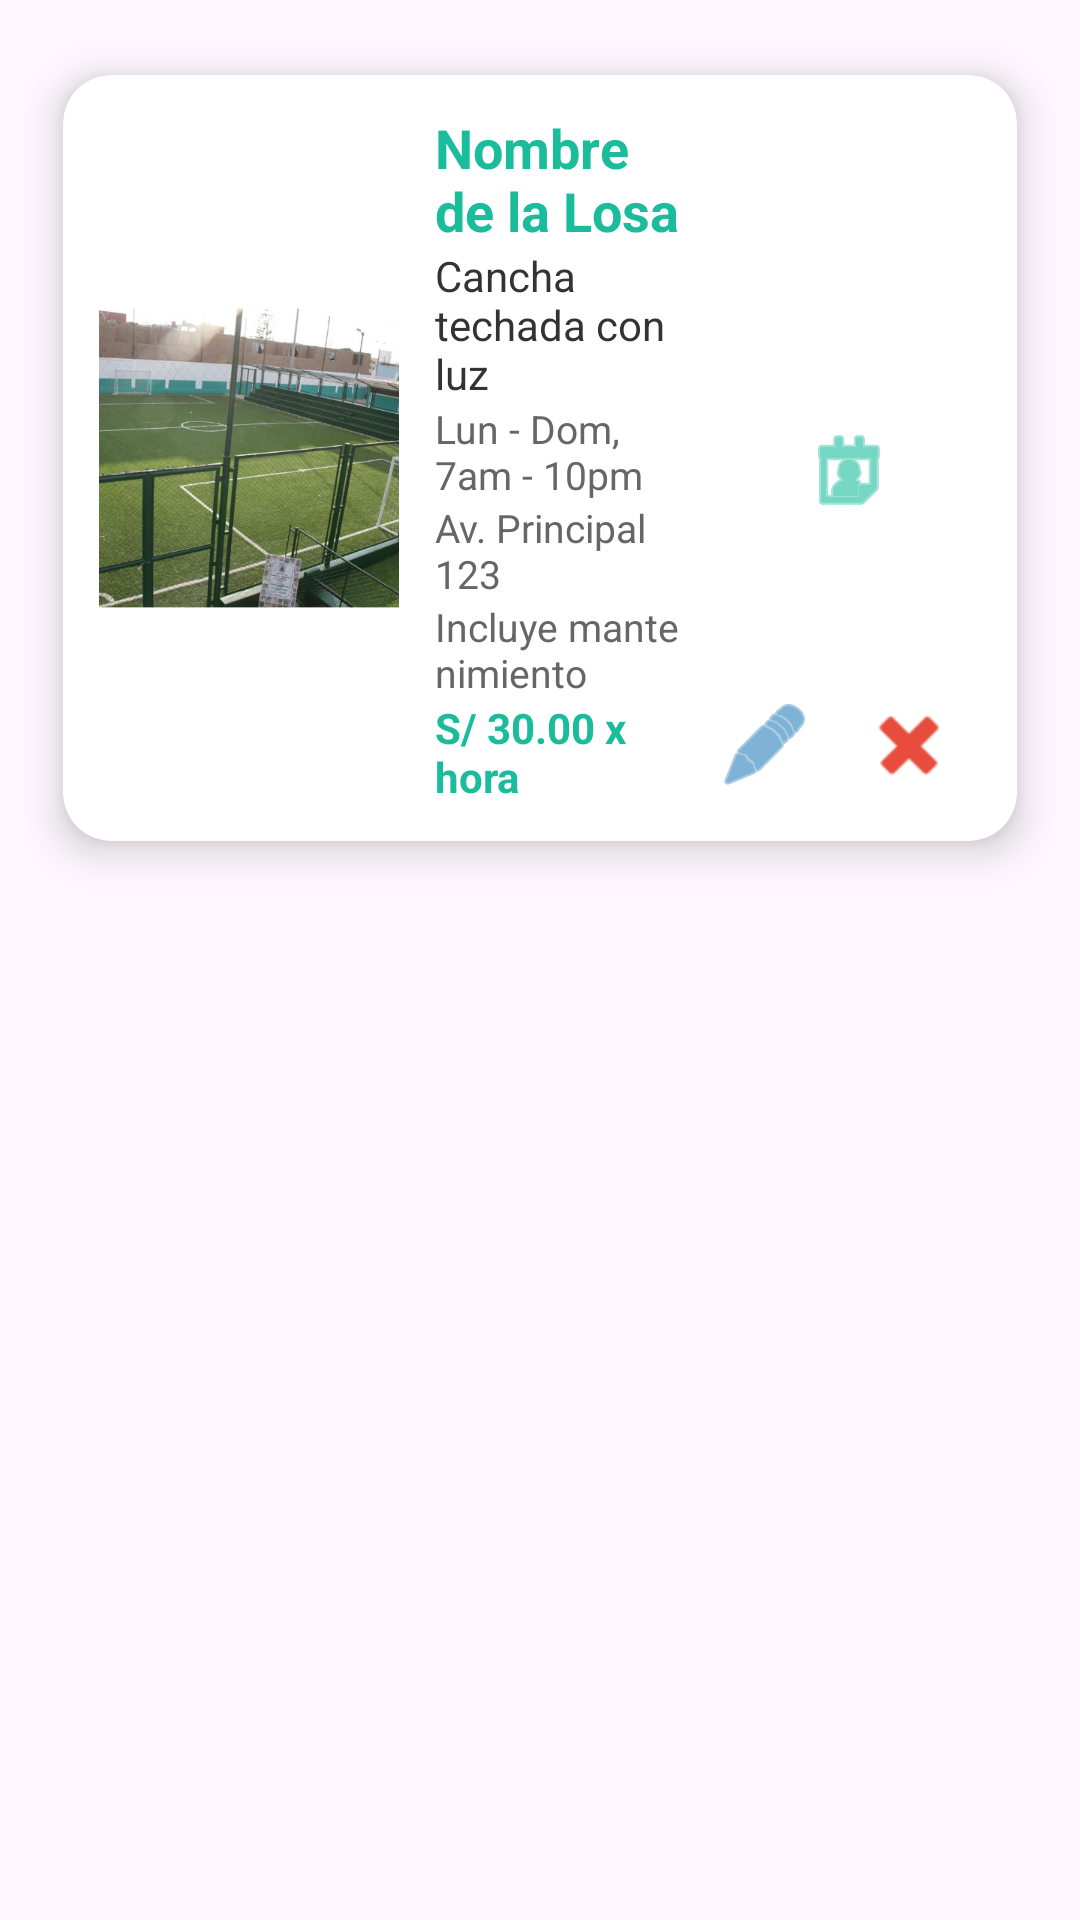

Named icons in this screenshot (1080px×1920px) and their centers, (x,y):
Editar: (764,744)
Eliminar: (909,745)
Imagen de la losa: (249,458)
Reservar: (849,470)
